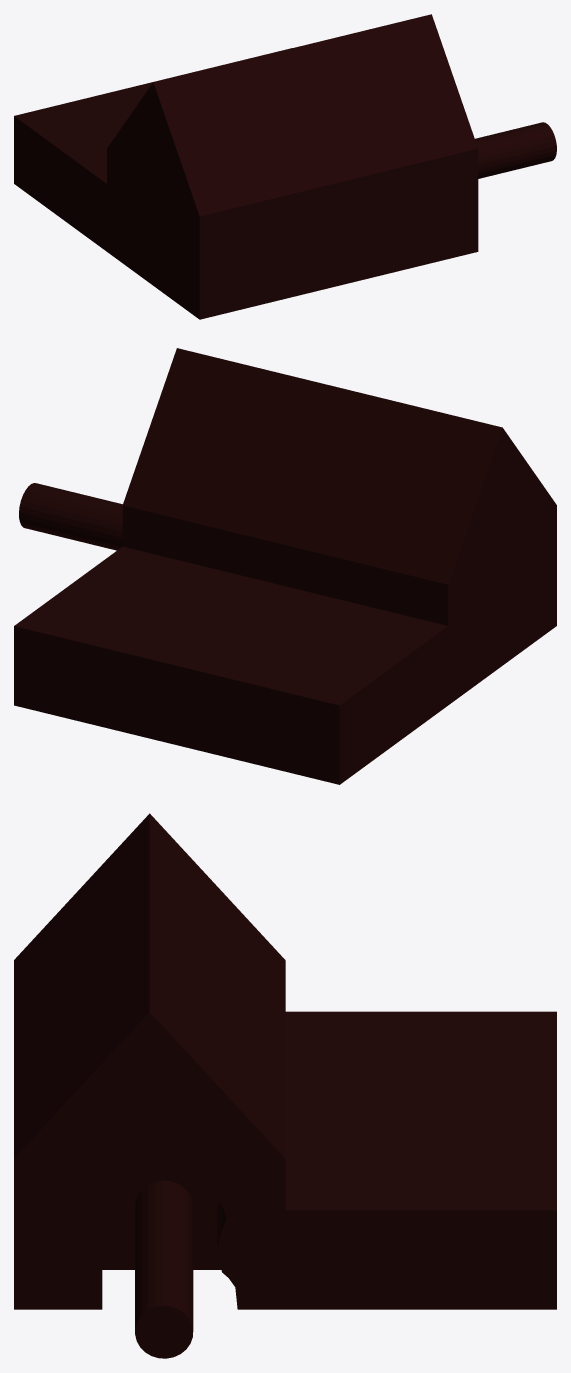
Rendered from asset.glb.
The picture shows the model from 3 angles, top to bottom: view 1: azimuth 30°, elevation 25°; view 2: azimuth 150°, elevation 25°; view 3: azimuth 270°, elevation 25°; orthographic projection. The views are drawn at different scales.
Parts seen in each view (by area): view 1: imagetostl_mesh8, imagetostl_mesh1, imagetostl_mesh2, imagetostl_mesh6, imagetostl_mesh32, imagetostl_mesh31, imagetostl_mesh33, imagetostl_mesh30; view 2: imagetostl_mesh5, imagetostl_mesh6, imagetostl_mesh2, imagetostl_mesh3, imagetostl_mesh7, imagetostl_mesh47, imagetostl_mesh46, imagetostl_mesh48, imagetostl_mesh45, imagetostl_mesh49; view 3: imagetostl_mesh4, imagetostl_mesh6, imagetostl_mesh5, imagetostl_mesh8, imagetostl_mesh9, imagetostl_mesh27, imagetostl_mesh28, imagetostl_mesh50, imagetostl_mesh29, imagetostl_mesh51, imagetostl_mesh49, imagetostl_mesh30 (+1 smaller).
Part boxes in pixels (x1,y1,x2,y2): imagetostl_mesh8: (153, 14, 477, 216); imagetostl_mesh1: (199, 149, 478, 319); imagetostl_mesh2: (14, 82, 199, 319); imagetostl_mesh6: (14, 48, 292, 183); imagetostl_mesh32: (478, 140, 556, 164); imagetostl_mesh31: (478, 135, 555, 159); imagetostl_mesh33: (478, 145, 556, 169); imagetostl_mesh30: (478, 131, 554, 153); imagetostl_mesh5: (123, 348, 502, 584); imagetostl_mesh6: (14, 546, 447, 705); imagetostl_mesh2: (339, 428, 556, 784); imagetostl_mesh3: (14, 626, 339, 784); imagetostl_mesh7: (122, 505, 448, 625); imagetostl_mesh47: (19, 501, 122, 531); imagetostl_mesh46: (19, 507, 122, 537); imagetostl_mesh48: (21, 495, 122, 525); imagetostl_mesh45: (19, 512, 122, 542); imagetostl_mesh49: (23, 490, 122, 519); imagetostl_mesh4: (14, 1012, 556, 1309); imagetostl_mesh6: (285, 1011, 556, 1210); imagetostl_mesh5: (149, 813, 285, 1158); imagetostl_mesh8: (14, 814, 149, 1158); imagetostl_mesh9: (92, 1176, 221, 1269); imagetostl_mesh27: (135, 1306, 193, 1358); imagetostl_mesh28: (154, 1180, 161, 1307); imagetostl_mesh50: (169, 1181, 176, 1308); imagetostl_mesh29: (147, 1182, 154, 1309); imagetostl_mesh51: (162, 1180, 169, 1306); imagetostl_mesh49: (176, 1183, 182, 1311); imagetostl_mesh30: (142, 1185, 147, 1314).
Bounding box in the file's own units: 181 × 88.58 × 146.
